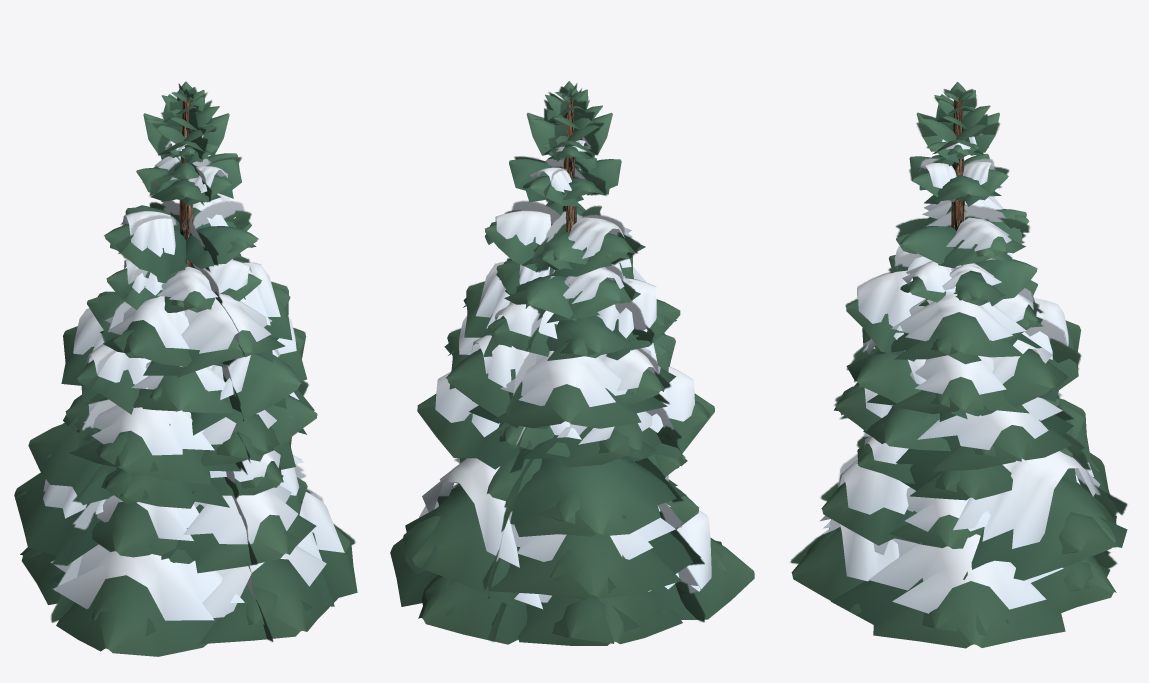
File: tree12.glb
3 views of the same model, side by side, from view 1: azimuth 30°, elevation 25°; view 2: azimuth 150°, elevation 25°; view 3: azimuth 270°, elevation 25° (orthographic). The views are drawn at different scales.
Parts seen in each view (by area): view 1: Alpine12_1, Alpine12_2, Empty.004, Alpine12_0; view 2: Alpine12_1, Alpine12_2, Empty.004, Alpine12_0; view 3: Alpine12_1, Alpine12_2, Empty.004, Alpine12_0.
Boxes of the visible parts, <box> form: Alpine12_1: <box>14,81,357,656</box>; Alpine12_2: <box>43,135,344,620</box>; Empty.004: <box>50,83,355,641</box>; Alpine12_0: <box>168,97,193,266</box>; Alpine12_1: <box>390,81,754,645</box>; Alpine12_2: <box>419,140,711,608</box>; Empty.004: <box>451,83,705,641</box>; Alpine12_0: <box>562,97,594,232</box>; Alpine12_1: <box>791,82,1127,648</box>; Alpine12_2: <box>820,136,1100,613</box>; Empty.004: <box>790,89,1127,568</box>; Alpine12_0: <box>951,97,976,230</box>.
Size of the model in its own units: 5.64 by 8.86 by 5.59.
4 materials, 2 textured.
